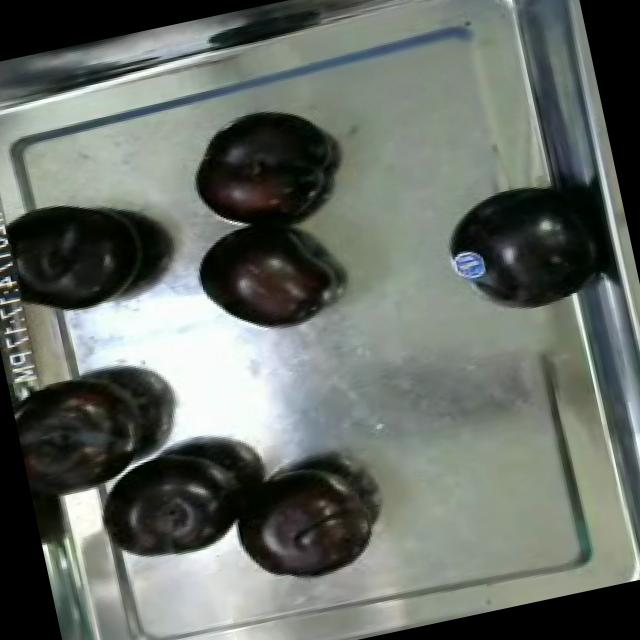Fruit: (177, 93, 346, 235), (0, 183, 163, 330), (90, 426, 251, 574), (227, 450, 387, 594), (181, 208, 341, 350), (7, 363, 144, 508), (439, 238, 495, 293)
